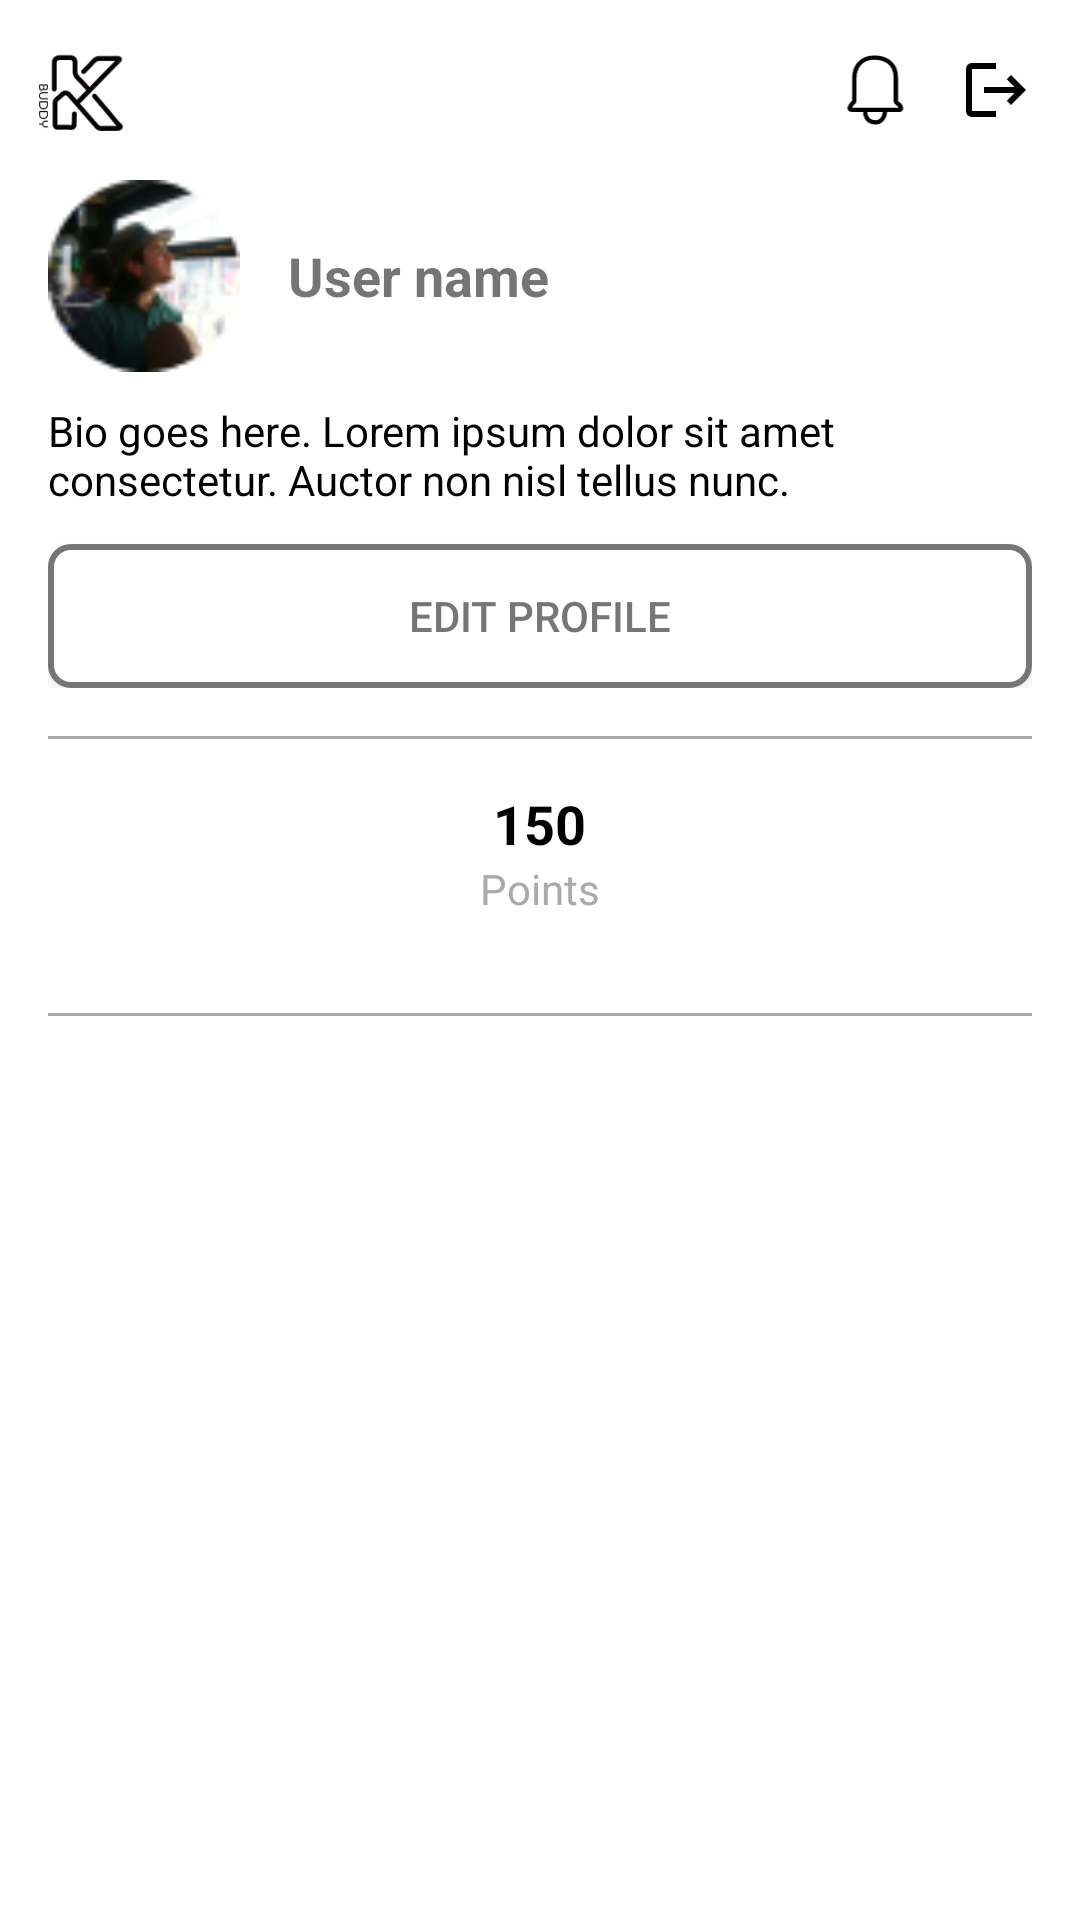

Screen size 1080 x 1920. Icon name, then its center in pixels as (x,y):
mypage user: (144,276)
notice: (875,90)
